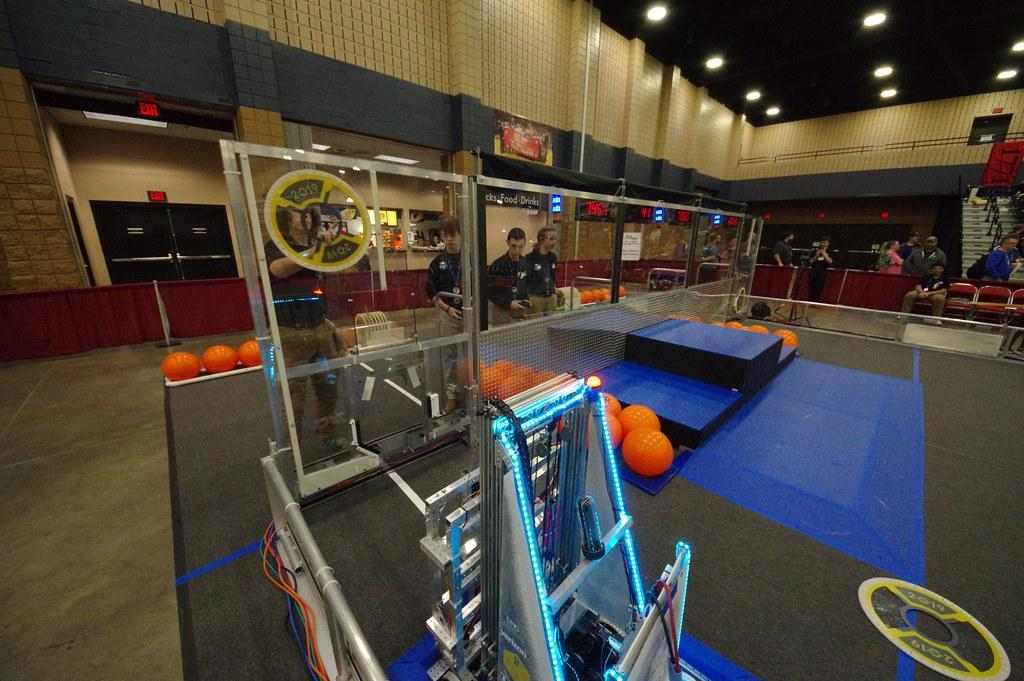robot: (386, 367, 774, 681)
